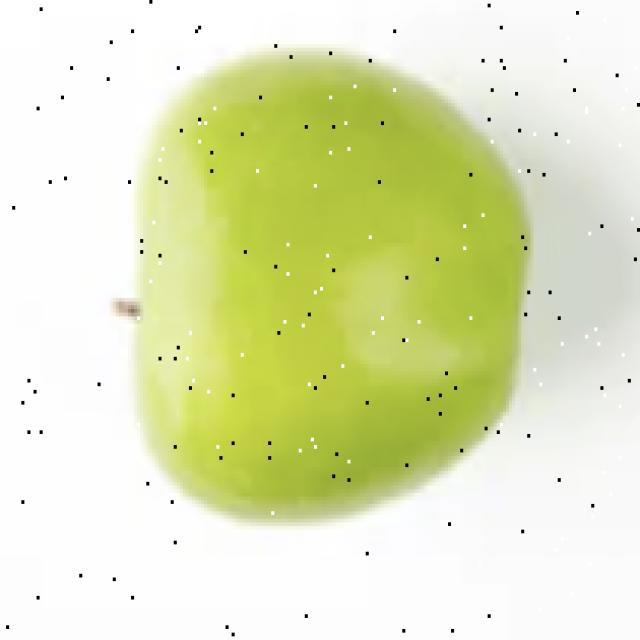Fresh Apple: (138, 57, 527, 518)
